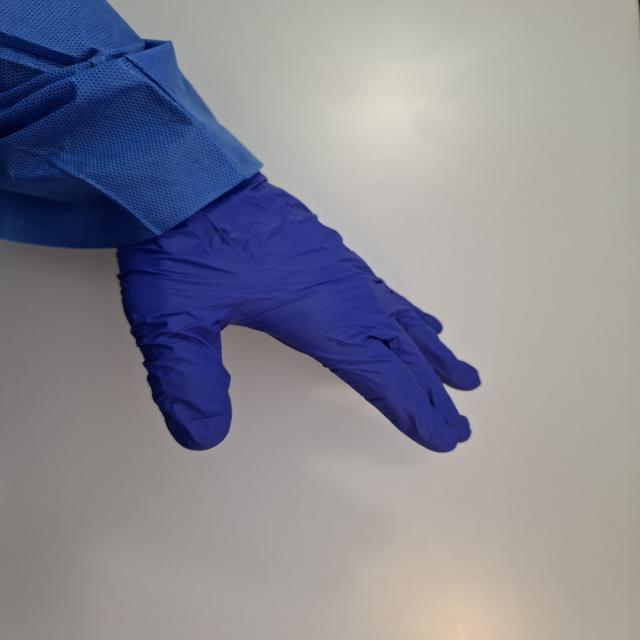glove_on: (108, 168, 485, 456)
